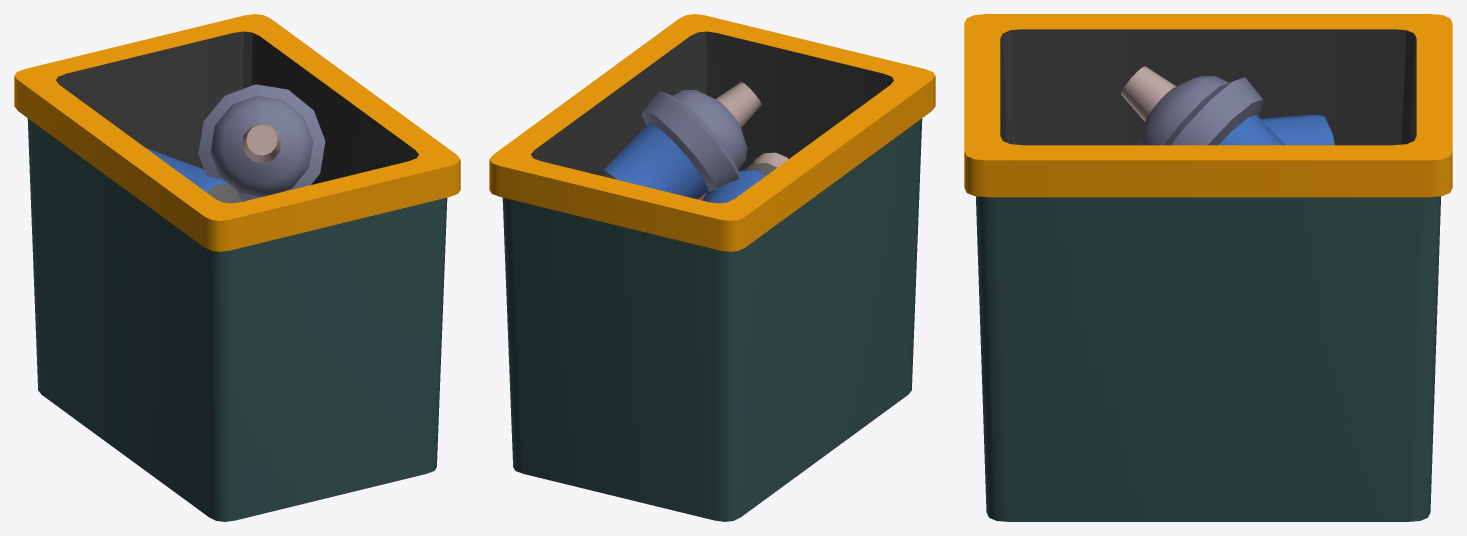
The model's file is Dust Bin .fbx.
3 views of the same model, side by side, from view 1: azimuth 30°, elevation 25°; view 2: azimuth 150°, elevation 25°; view 3: azimuth 270°, elevation 25° (orthographic). The views are drawn at different scales.
Visible parts, largest first — view 1: Dust Bin; view 2: Dust Bin; view 3: Dust Bin.
Part boxes in pixels (left/top/right/bottom): Dust Bin: left=14, top=14, right=460, bottom=521; Dust Bin: left=489, top=14, right=935, bottom=521; Dust Bin: left=964, top=14, right=1452, bottom=521.
Size of the model in its own units: 4.01 by 5 by 5.65.
